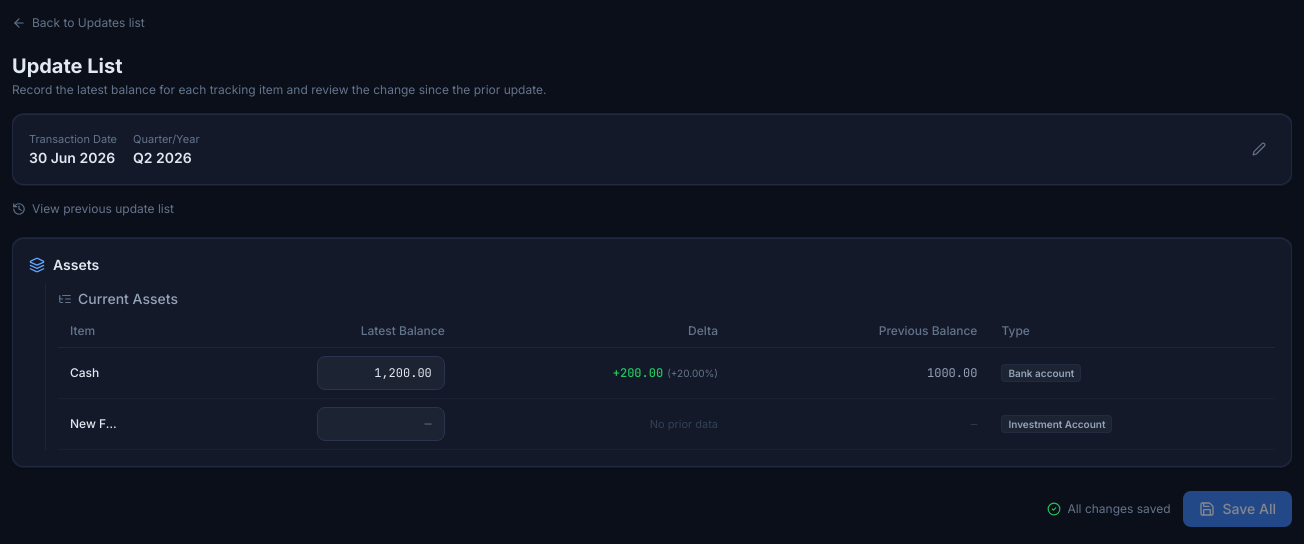
UpdateTrackingListDetailPage — client-side delta preview on blur › reverts the preview to the saved server delta once the edit is saved and the list is refetched
Replace the text in the field named "Latest balance for Cash" with "1500" at [381, 372], box [317,356,445,390]
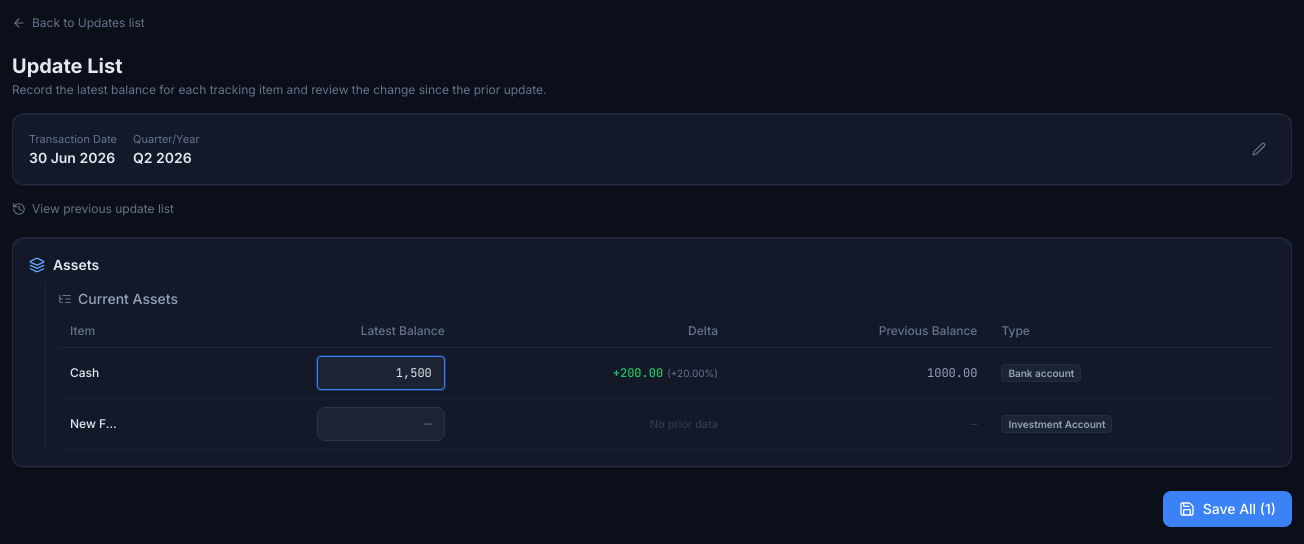
Press Tab
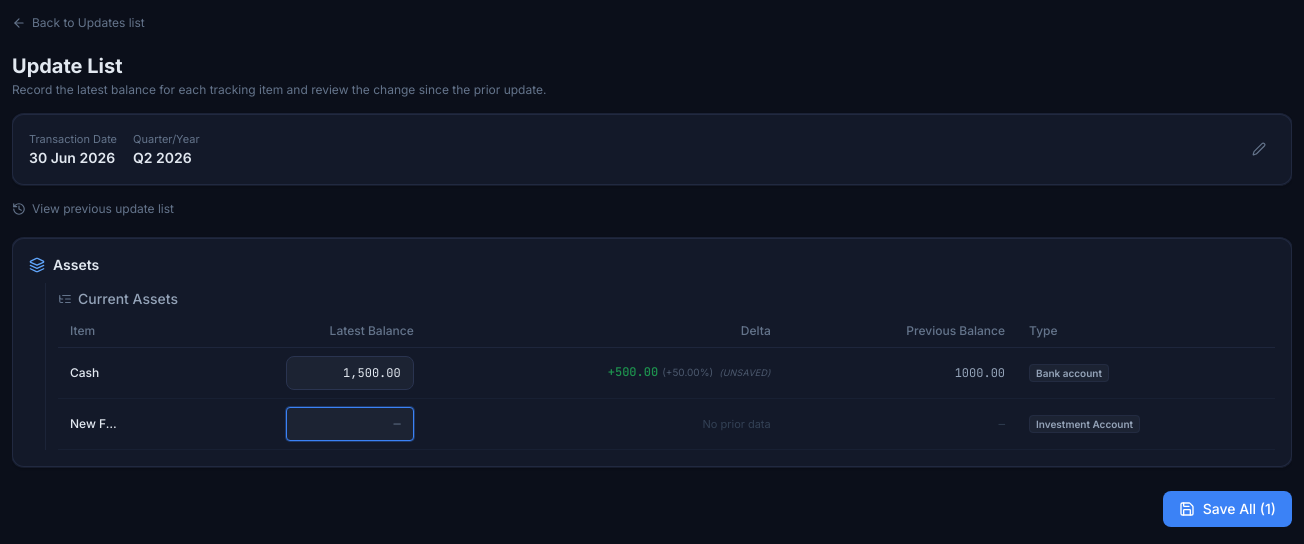
Result: the text "(unsaved)" is shown at [719,365,771,381]
Click the button "Save All (1)" at [1227, 508], box [1163,490,1292,526]
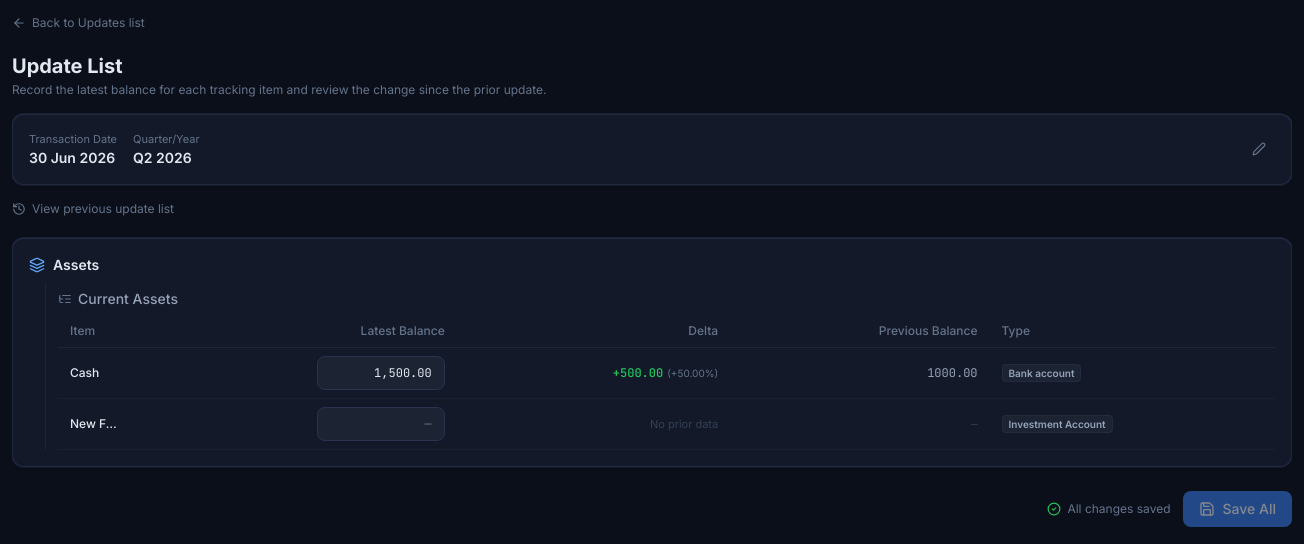
Result: the text "+500.00" is shown at [613,364,663,380]
Result: the text "(+50.00%)" is shown at [667,364,718,380]
Result: the text "(unsaved)" is gone
